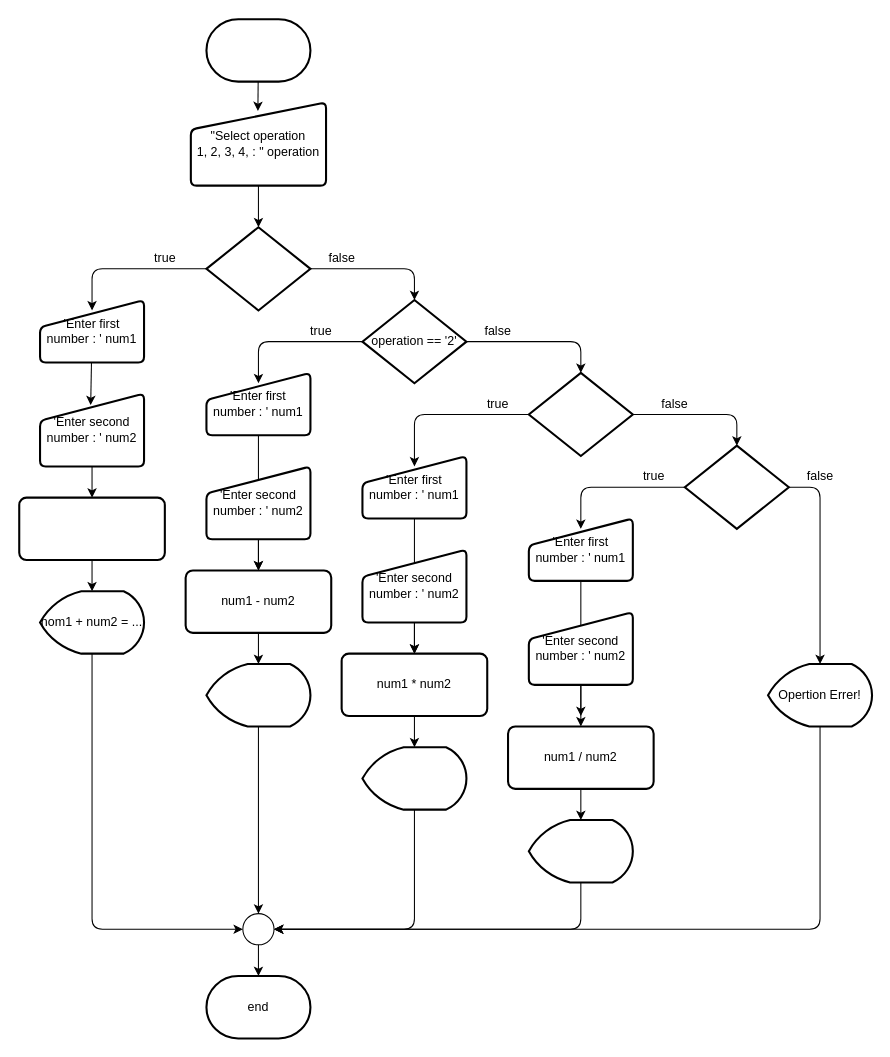
This 890x1057 diagram has some shape labels left out. The box of each missing label's shape, as (x1, y1, x2, y2) in pixels:
nom1 * num2 = ...: (361, 746, 467, 810)
nom1 - num2 = ...: (205, 662, 311, 727)
nom1 / num2 = ...: (527, 818, 633, 883)
num1 + num2: (18, 496, 165, 561)
operation == '1': (205, 226, 311, 311)
operation == '3': (527, 371, 633, 457)
operation == '4': (683, 444, 789, 529)
start: (205, 18, 311, 82)
